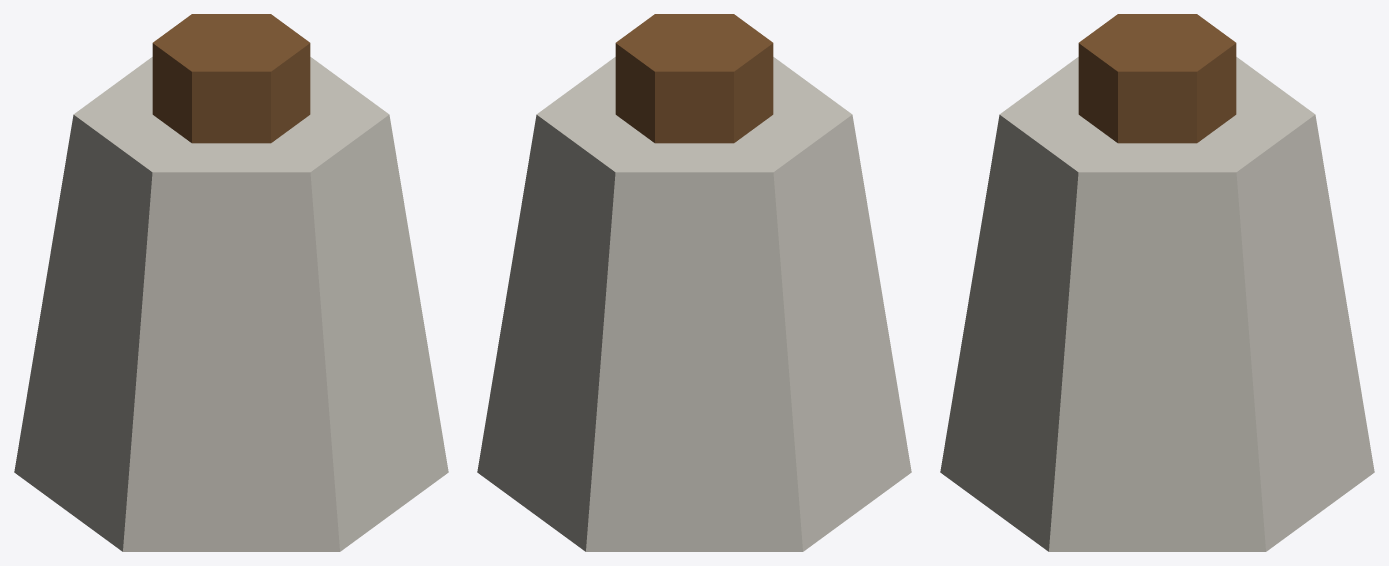
Rendered from good_4.glb.
The picture shows the model from 3 angles, left to right: view 1: azimuth 30°, elevation 25°; view 2: azimuth 150°, elevation 25°; view 3: azimuth 270°, elevation 25°; orthographic projection.
Visible parts, largest first — view 1: good_4; view 2: good_4; view 3: good_4.
Part boxes in pixels (bbox=[...]): good_4: bbox=[14, 14, 448, 551]; good_4: bbox=[477, 14, 911, 551]; good_4: bbox=[940, 14, 1374, 551].
Size of the model in its own units: 0.0953 by 0.12 by 0.11.
